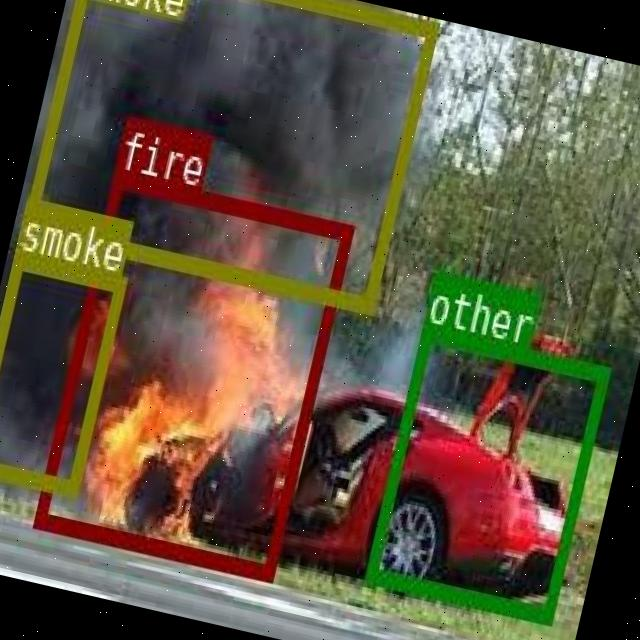fire: (32, 169, 352, 579)
smoke: (19, 0, 437, 311), (0, 250, 123, 494)
